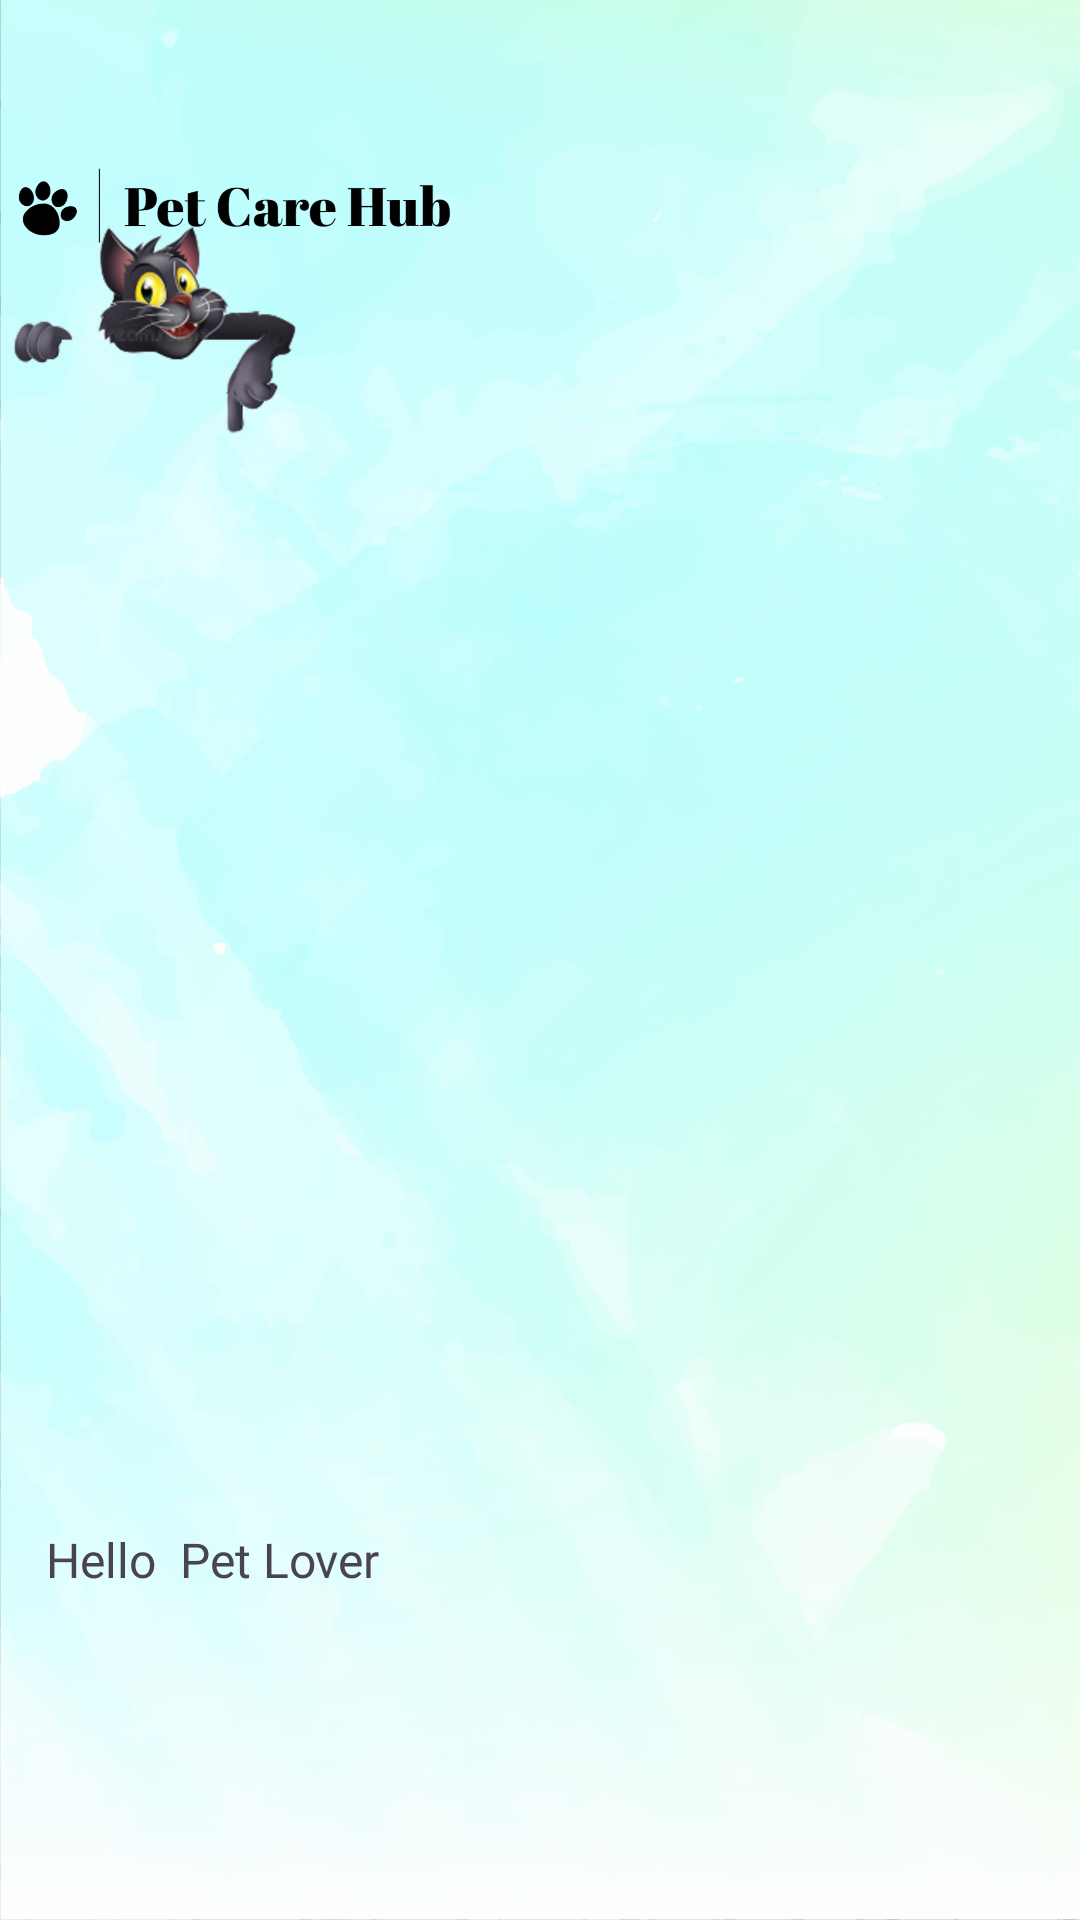

Screen size 1080×1920. Icon name, then its center in pixels as point (x, y):
catwall: point (155, 330)
